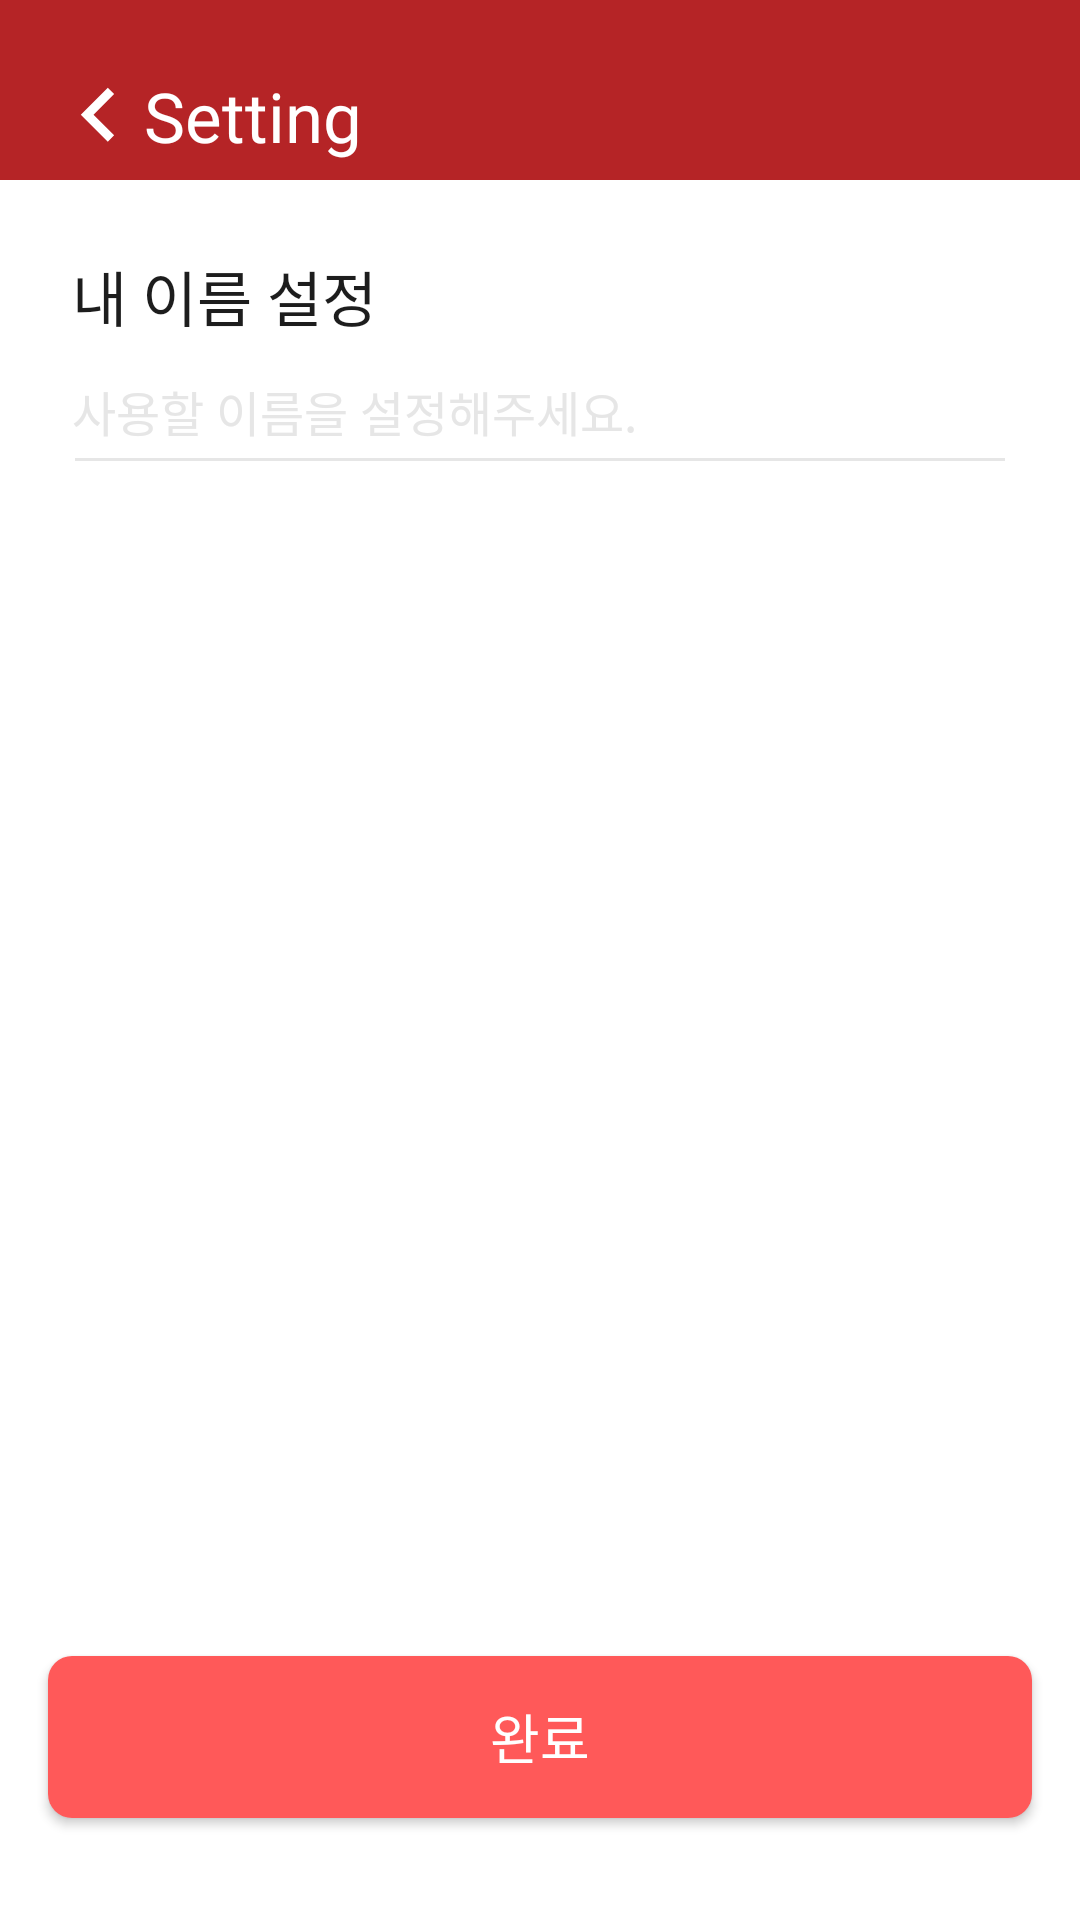

Point at icon controls on the screen. Image size 1080*1920, points as (x,y).
back: (97,115)
